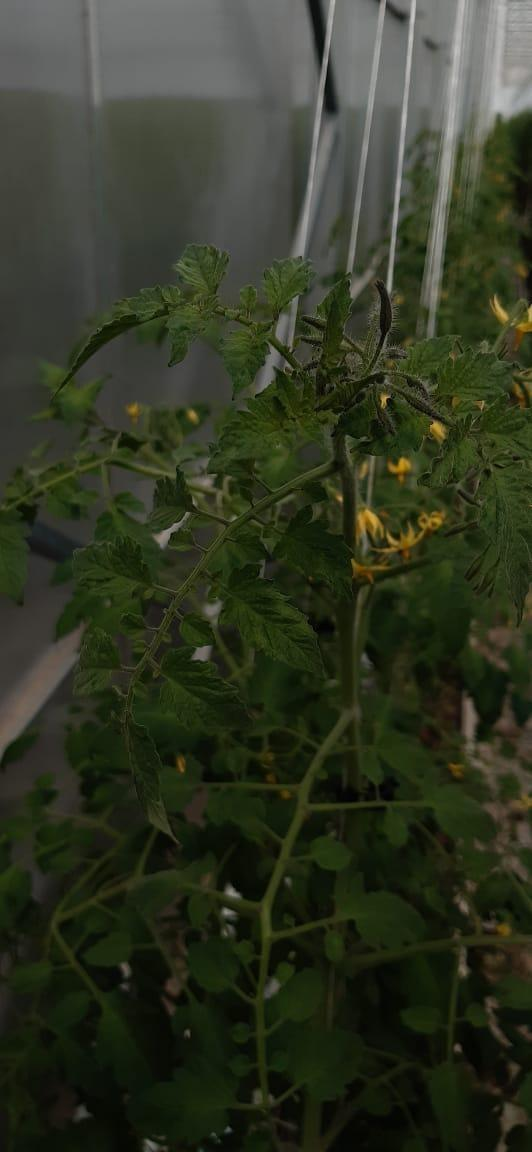Hoja: (53, 284, 182, 392), (225, 565, 322, 674), (73, 535, 161, 632), (213, 386, 301, 468), (121, 704, 173, 839), (484, 468, 531, 612), (161, 651, 244, 732), (275, 510, 351, 598), (439, 342, 512, 411), (422, 413, 482, 488), (218, 322, 270, 394), (400, 336, 462, 390), (168, 298, 217, 366), (76, 623, 121, 697), (261, 256, 311, 322), (148, 468, 194, 533), (320, 276, 350, 361), (172, 243, 226, 290)
Pedunculo: (120, 456, 338, 750), (322, 281, 391, 437)
